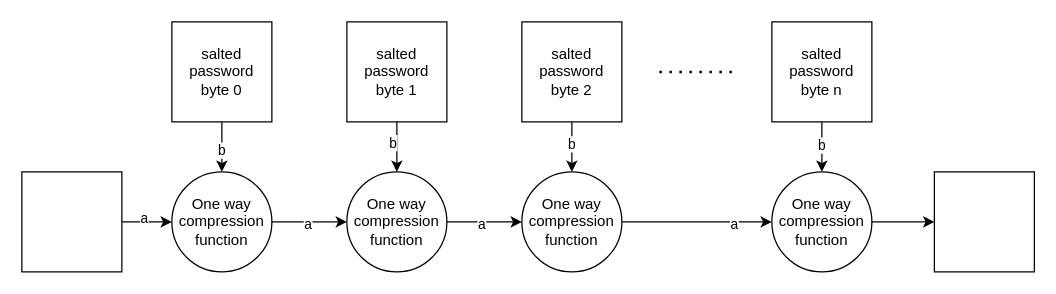
Image size: 1056x294. Some labels were removed from this diagram. Each missing label, with the centre of its shape:
"Constant seed (0xFF = 255)" belongs at (x=71, y=221).
"Hash" belongs at (x=983, y=221).
